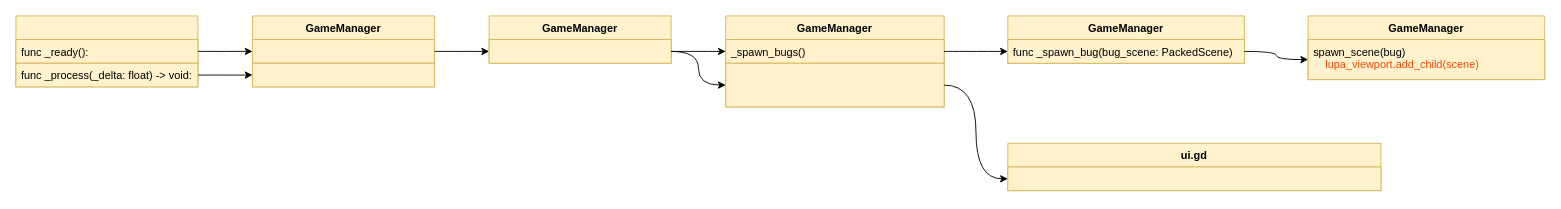
Image size: 1561x209. Some labels were removed from this diagram. Each missing label, with the box of its shape:
_set_game_state(GameState.RUNNING) game_state_changed.emit(game_state): (725, 62, 944, 107)
func reset_game(): (488, 39, 671, 63)
func update_win_label_visibility(game_state: GameManager.GameState): (1007, 166, 1381, 191)
get_player_position(): (252, 62, 435, 87)
main.gd (Node): (15, 15, 198, 87)
set_lupa_viewport(%LupaViewport): (252, 39, 435, 63)
